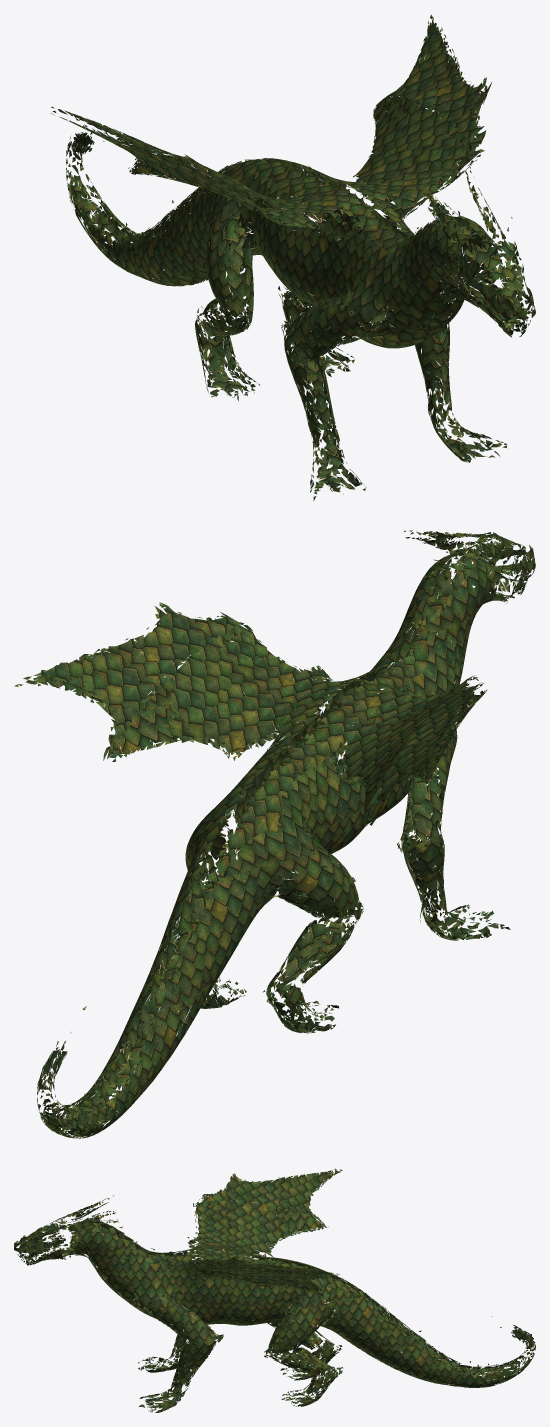
File: verdant_dragon_textured_runtime.glb
The picture shows the model from 3 angles, top to bottom: view 1: azimuth 30°, elevation 25°; view 2: azimuth 150°, elevation 25°; view 3: azimuth 270°, elevation 25°; orthographic projection. The views are drawn at different scales.
Visible parts, largest first — view 1: verdant_dragon_textured_runtime; view 2: verdant_dragon_textured_runtime; view 3: verdant_dragon_textured_runtime.
Boxes of the visible parts, x1,y1,x2,y2 form: verdant_dragon_textured_runtime: (50,14,535,500); verdant_dragon_textured_runtime: (14,530,535,1138); verdant_dragon_textured_runtime: (14,1168,535,1412).
Size of the model in its own units: 0.939 by 0.742 by 1.87.
Materials: 1 (1 with a texture image).
